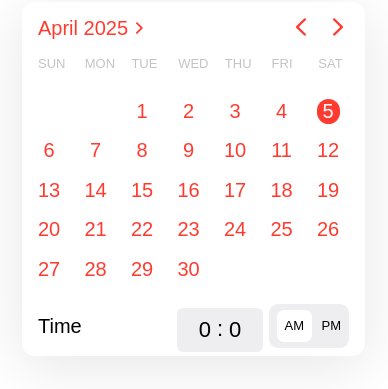
Test: Calendar › Should changeMonth with value === next when user click to next month
Click the button with test id "next-month": coordinates (338, 28) [327,17,349,40]
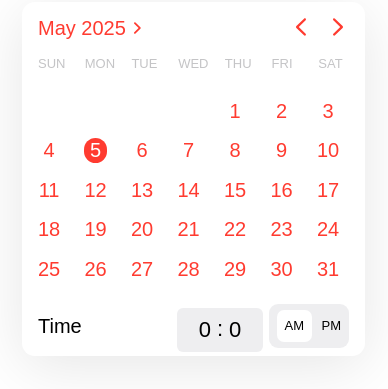
Expected: the text with test id "current-month" reads "May 2025", [38,17,126,39]
